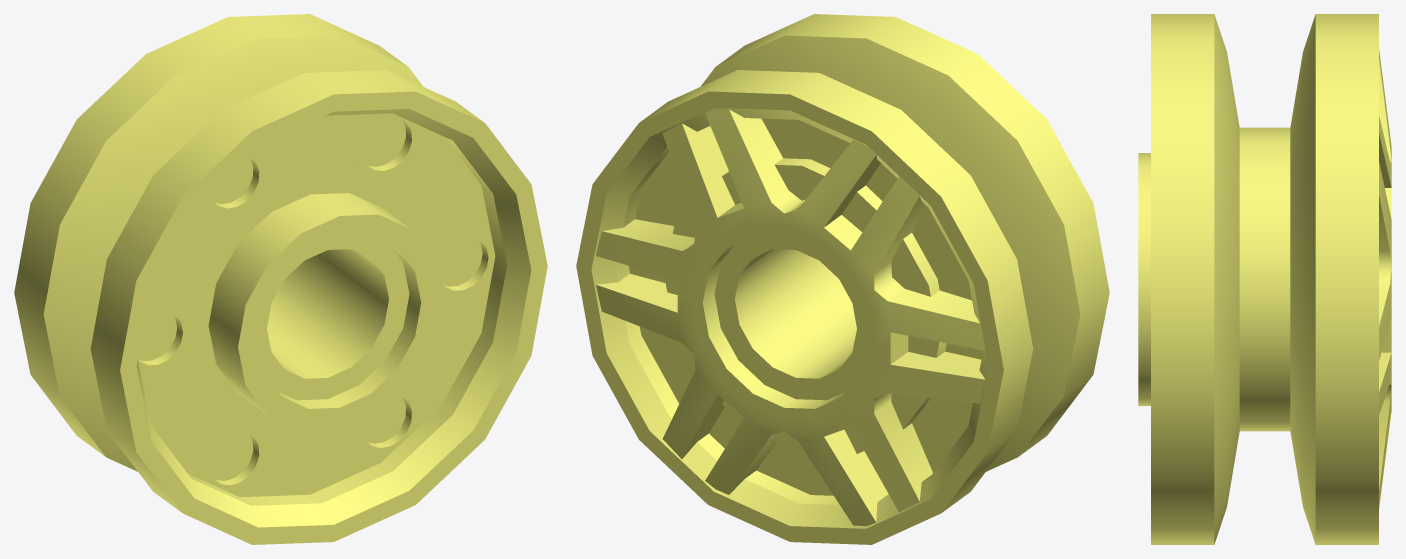
3 renders of one model, left to right at view 1: azimuth 30°, elevation 25°; view 2: azimuth 150°, elevation 25°; view 3: azimuth 270°, elevation 25°, orthographic. The views are drawn at different scales.
Visible parts, largest first — view 1: 13971.dat; view 2: 13971.dat; view 3: 13971.dat.
Boxes of the visible parts, x1,y1,x2,y2 form: 13971.dat: [14, 14, 547, 544]; 13971.dat: [576, 14, 1109, 544]; 13971.dat: [1138, 14, 1391, 544].
Bounding box in the file's own units: 0.0168 × 0.0168 × 0.008.
